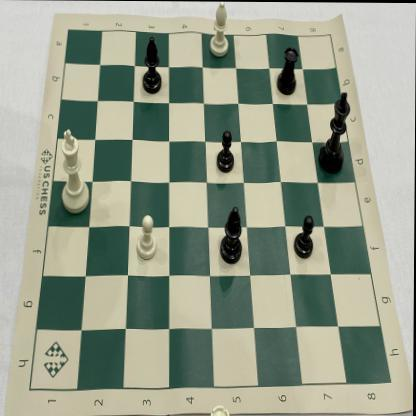black-bishop: (216, 201, 248, 267), (140, 34, 167, 99)
black-king: (316, 85, 352, 180)
black-pawn: (213, 126, 241, 176), (290, 210, 316, 263)
black-rook: (274, 43, 303, 97)
white-bishop: (209, 1, 236, 61)
white-king: (58, 118, 96, 220)
white-pawn: (135, 209, 163, 262)
